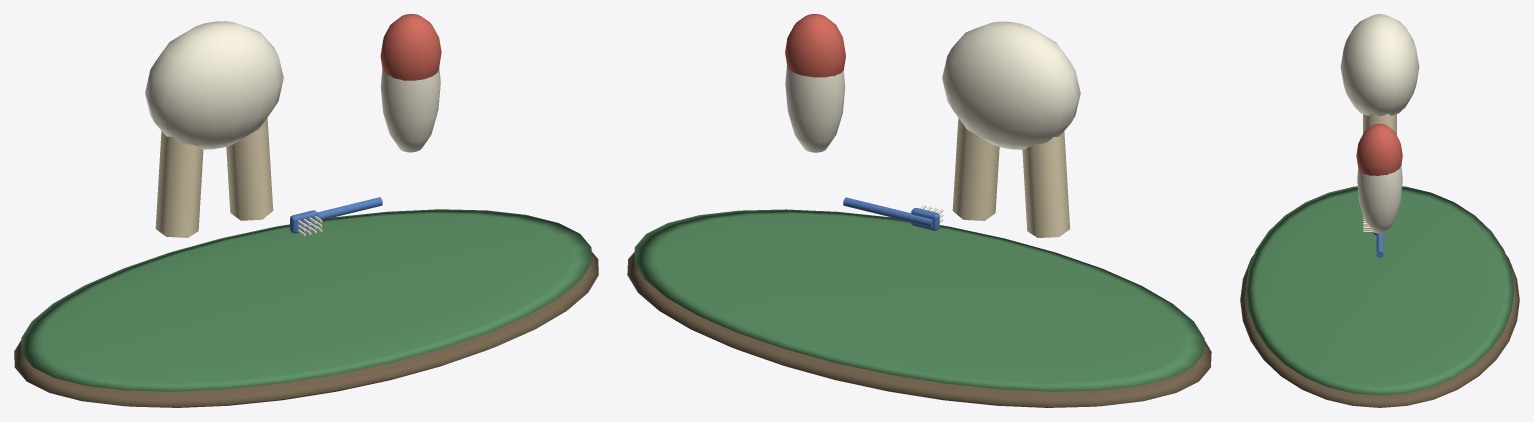
File: tooth-paste.glb
The picture shows the model from 3 angles, left to right: view 1: azimuth 30°, elevation 25°; view 2: azimuth 150°, elevation 25°; view 3: azimuth 270°, elevation 25°; orthographic projection. The views are drawn at different scales.
Visible parts, largest first — view 1: tooth-paste_surface_01, tooth-paste_surface_02, tooth-paste_surface_00, tooth-paste_surface_03, tooth-paste_surface_04, tooth-paste_surface_05; view 2: tooth-paste_surface_01, tooth-paste_surface_02, tooth-paste_surface_00, tooth-paste_surface_03, tooth-paste_surface_04, tooth-paste_surface_05; view 3: tooth-paste_surface_01, tooth-paste_surface_02, tooth-paste_surface_00, tooth-paste_surface_04, tooth-paste_surface_03.
Part boxes in pixels (left/top/right/bottom): tooth-paste_surface_01: left=21, top=209, right=591, bottom=391; tooth-paste_surface_02: left=145, top=21, right=440, bottom=235; tooth-paste_surface_00: left=14, top=252, right=598, bottom=407; tooth-paste_surface_03: left=155, top=117, right=273, bottom=237; tooth-paste_surface_04: left=380, top=14, right=441, bottom=80; tooth-paste_surface_05: left=290, top=197, right=382, bottom=233; tooth-paste_surface_01: left=634, top=209, right=1204, bottom=391; tooth-paste_surface_02: left=785, top=21, right=1080, bottom=222; tooth-paste_surface_00: left=627, top=252, right=1211, bottom=407; tooth-paste_surface_03: left=952, top=118, right=1069, bottom=237; tooth-paste_surface_04: left=785, top=14, right=845, bottom=77; tooth-paste_surface_05: left=843, top=197, right=939, bottom=230; tooth-paste_surface_01: left=1245, top=186, right=1514, bottom=395; tooth-paste_surface_02: left=1340, top=14, right=1419, bottom=233; tooth-paste_surface_00: left=1240, top=255, right=1519, bottom=407; tooth-paste_surface_04: left=1356, top=123, right=1402, bottom=175; tooth-paste_surface_03: left=1363, top=113, right=1396, bottom=135.
Size of the model in its own units: 4.56 by 2.54 by 2.5.
